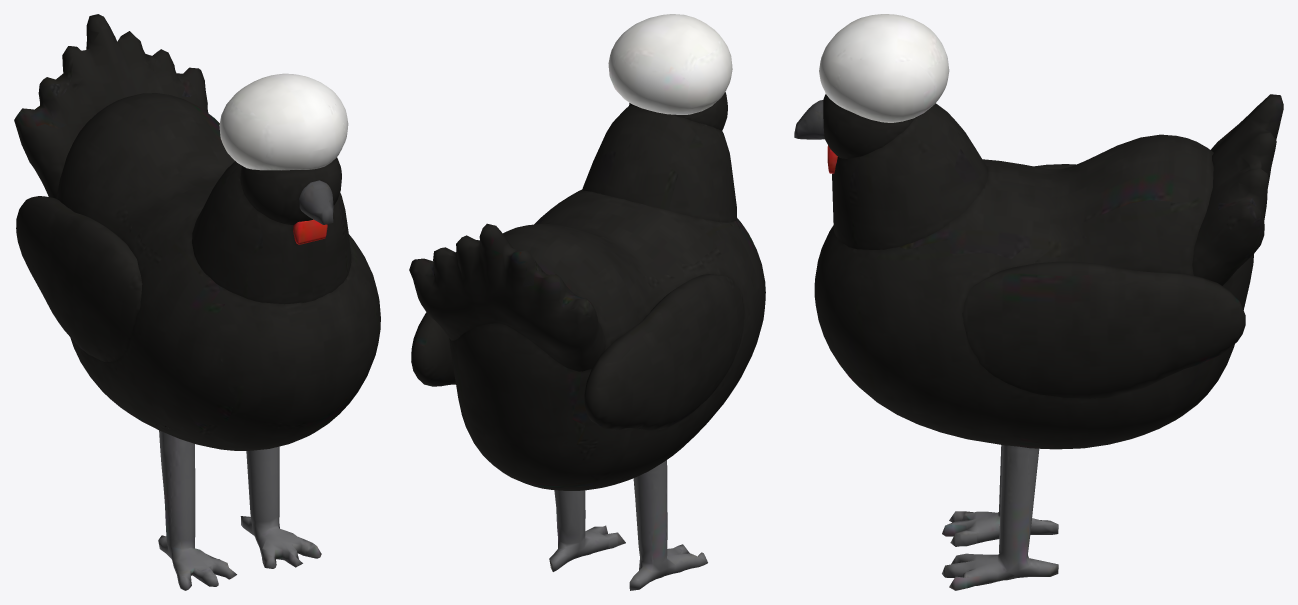
Rendered from animal_polish_chicken.glb.
3 renders of one model, left to right at view 1: azimuth 30°, elevation 25°; view 2: azimuth 150°, elevation 25°; view 3: azimuth 270°, elevation 25°, orthographic. The views are drawn at different scales.
Parts seen in each view (by area): view 1: animal_polish_chicken, head, leg0, leg1; view 2: animal_polish_chicken, head, leg0, leg1; view 3: animal_polish_chicken, head, leg1, leg0.
Boxes of the visible parts, x1,y1,x2,y2 form: animal_polish_chicken: (14,14,380,450); head: (219,73,348,244); leg0: (158,430,236,590); leg1: (240,446,321,568); animal_polish_chicken: (409,105,765,490); head: (608,14,732,130); leg0: (629,460,707,590); leg1: (549,490,625,571); animal_polish_chicken: (814,94,1283,449); head: (794,14,949,173); leg1: (942,445,1058,590); leg0: (942,445,1058,546).
Size of the model in its own units: 0.1382 by 0.2824 by 0.2331.
1 material, 1 textured.
